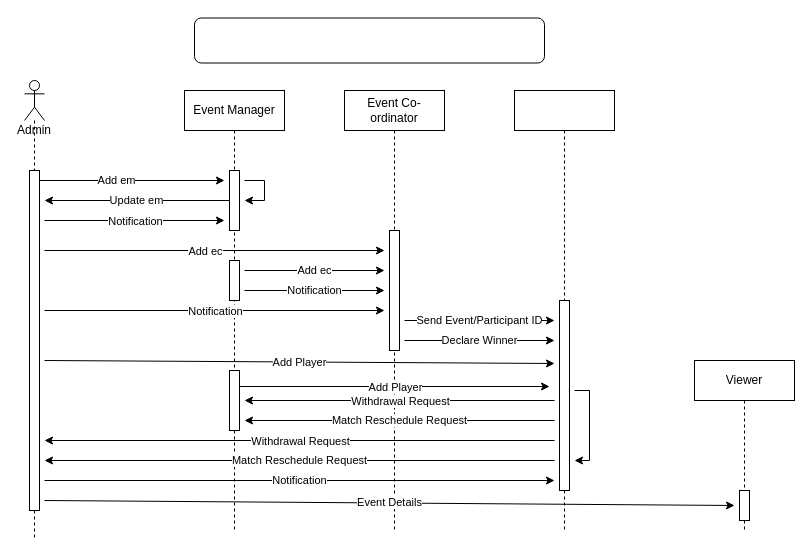
The diagram is 812 pixels wide and 558 high, and some of its shapes have lost their labels. Each missing label, with the centre of its shape:
"Functionality of Application" belongs at point 369,40.
"Player" belongs at point 564,310.
